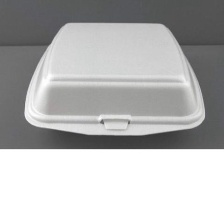foam_box: (17, 14, 212, 141)
